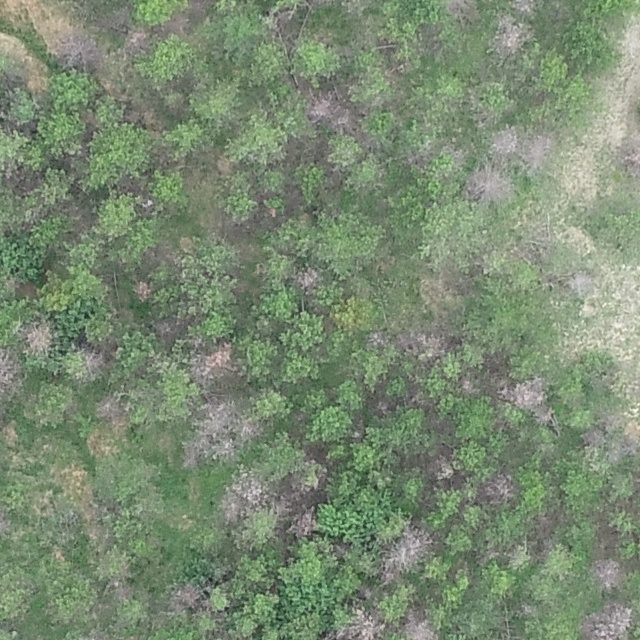unhealthy: (199, 398, 259, 457), (380, 524, 436, 580), (49, 28, 107, 69), (219, 470, 265, 521), (187, 340, 236, 384), (579, 601, 635, 639), (421, 265, 473, 302), (463, 165, 512, 203), (332, 609, 387, 639), (489, 16, 530, 56), (396, 330, 452, 357), (522, 128, 556, 172), (508, 373, 548, 406), (95, 392, 131, 428), (20, 319, 56, 355), (589, 556, 626, 591), (401, 608, 439, 639), (169, 581, 207, 611), (482, 472, 517, 504), (488, 124, 519, 159), (301, 84, 334, 116), (0, 344, 20, 396), (288, 507, 319, 537), (426, 453, 454, 481), (124, 27, 151, 55), (80, 346, 108, 373), (153, 317, 182, 342), (565, 269, 594, 294), (442, 0, 477, 20), (109, 578, 137, 602), (294, 266, 322, 290), (621, 143, 639, 180), (181, 438, 201, 469), (331, 112, 357, 135), (532, 407, 556, 429), (582, 425, 605, 446), (131, 278, 152, 301), (267, 492, 286, 515), (366, 329, 386, 350), (511, 0, 537, 15), (83, 628, 117, 639), (0, 508, 12, 539), (459, 376, 477, 396)
